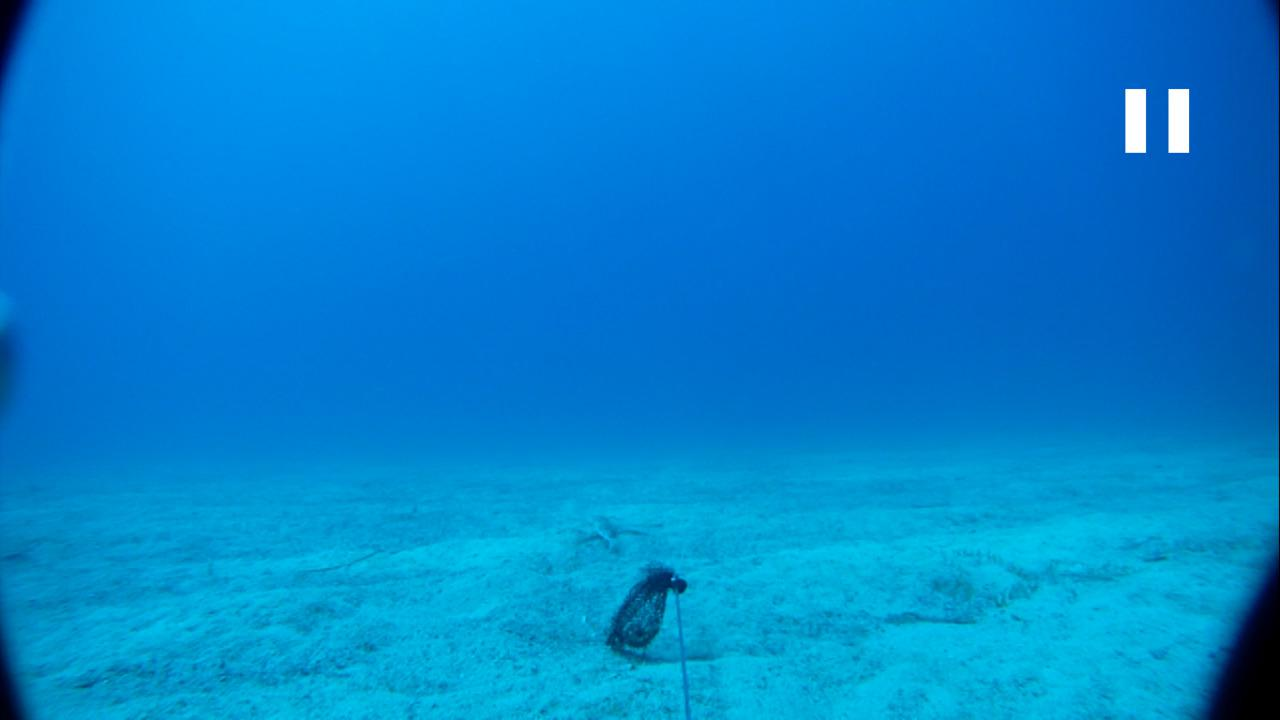dactylopterus: (545, 504, 631, 556)
